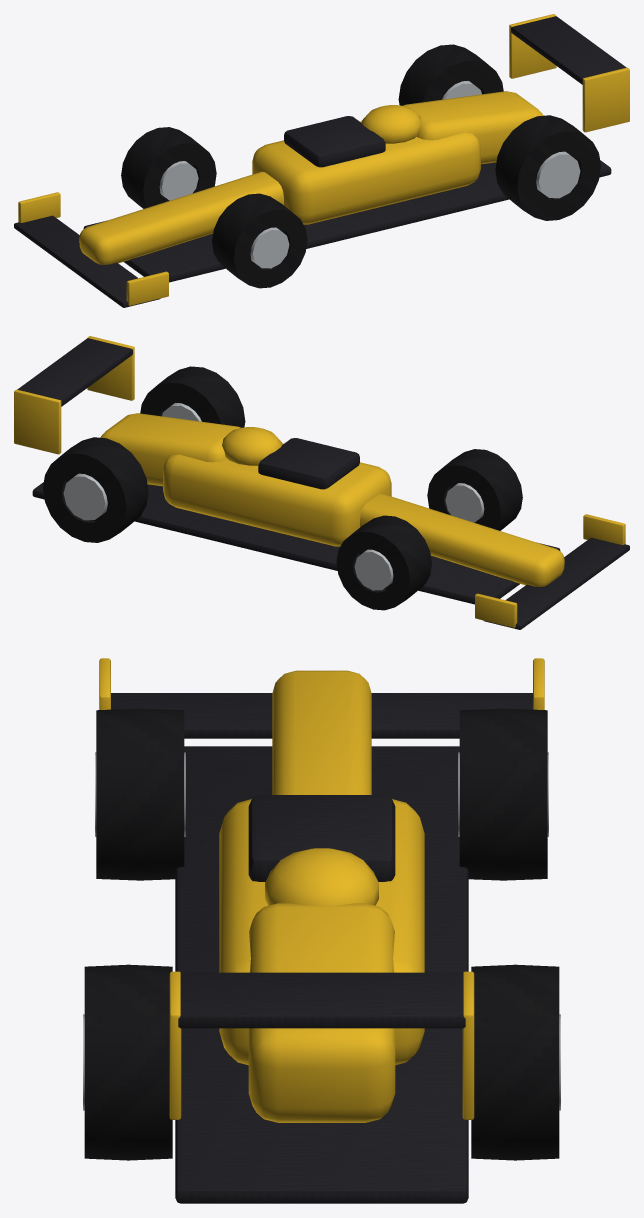
File: carro-de-corrida.glb
3 views of the same model, one above another, from view 1: azimuth 30°, elevation 25°; view 2: azimuth 150°, elevation 25°; view 3: azimuth 270°, elevation 25° (orthographic). The views are drawn at different scales.
Parts seen in each view (by area): view 1: cockpit, assoalho, bico, pneu.002, pneu, motor, pneu.001, pneu.003, asa-dianteira, asa-traseira, halo, placa-traseira (+8 smaller); view 2: cockpit, assoalho, bico, pneu.003, pneu.001, motor, pneu, pneu.002, asa-dianteira, asa-traseira, halo, placa-traseira.001 (+8 smaller); view 3: assoalho, motor, pneu.002, pneu.003, asa-traseira, pneu, pneu.001, cockpit, bico, asa-dianteira, halo, capacete (+2 smaller).
Part boxes in pixels (x1,y1,x2,y2): cockpit: (252,121,480,224); assoalho: (83,160,611,282); bico: (79,171,283,264); pneu.002: (495,115,600,220); pneu: (212,193,307,288); motor: (403,91,543,164); pneu.001: (121,127,216,208); pneu.003: (398,44,503,105); asa-dianteira: (14,215,160,307); asa-traseira: (511,16,626,84); halo: (284,116,385,167); placa-traseira: (582,67,629,132); cockpit: (163,443,391,546); assoalho: (32,482,560,604); bico: (360,493,564,586); pneu.003: (43,437,148,542); pneu.001: (336,515,431,610); motor: (100,413,240,486); pneu: (427,449,522,530); pneu.002: (140,366,245,427); asa-dianteira: (483,537,629,629); asa-traseira: (17,338,132,406); halo: (258,438,359,489); placa-traseira.001: (14,389,61,454); assoalho: (175,746,468,1203); motor: (248,903,395,1122); pneu.002: (84,964,172,1160); pneu.003: (471,964,559,1160); asa-traseira: (178,972,465,1028); pneu: (96,708,184,880); pneu.001: (459,708,547,880); cockpit: (219,799,424,1065); bico: (272,670,371,794); asa-dianteira: (111,693,532,738); halo: (248,795,395,881); capacete: (265,848,378,905).
Bounding box in the file's own units: 4.13 × 0.8566 × 1.63.
Materials: 4 (2 with a texture image).
